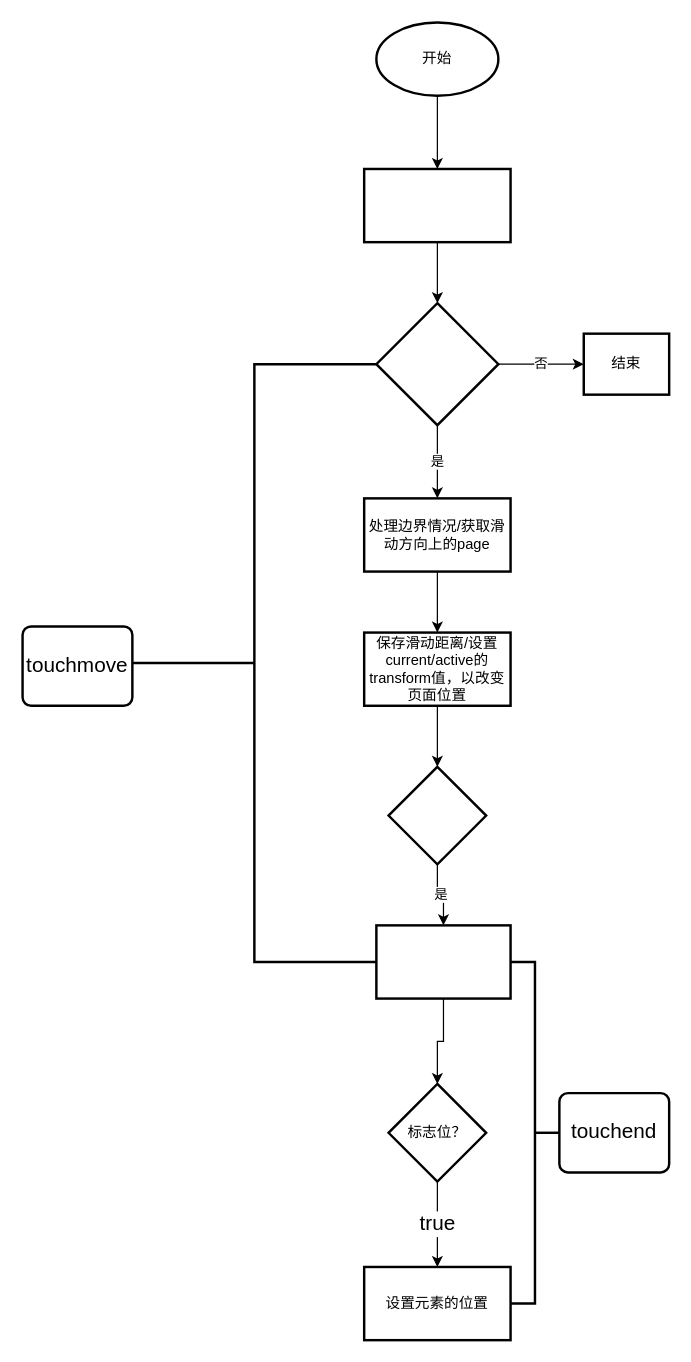
Image size: 691x1362. Some labels were removed from this diagram. Here are the shapes that lost their labels. From the top down, the box of each, then its label:
(362, 167, 511, 243): 记录初始点位置
(375, 301, 499, 426): 是否在Y轴方向滑动
(387, 765, 487, 865): 滑动距离是否超过了阙值
(375, 924, 511, 999): 改变标志位
